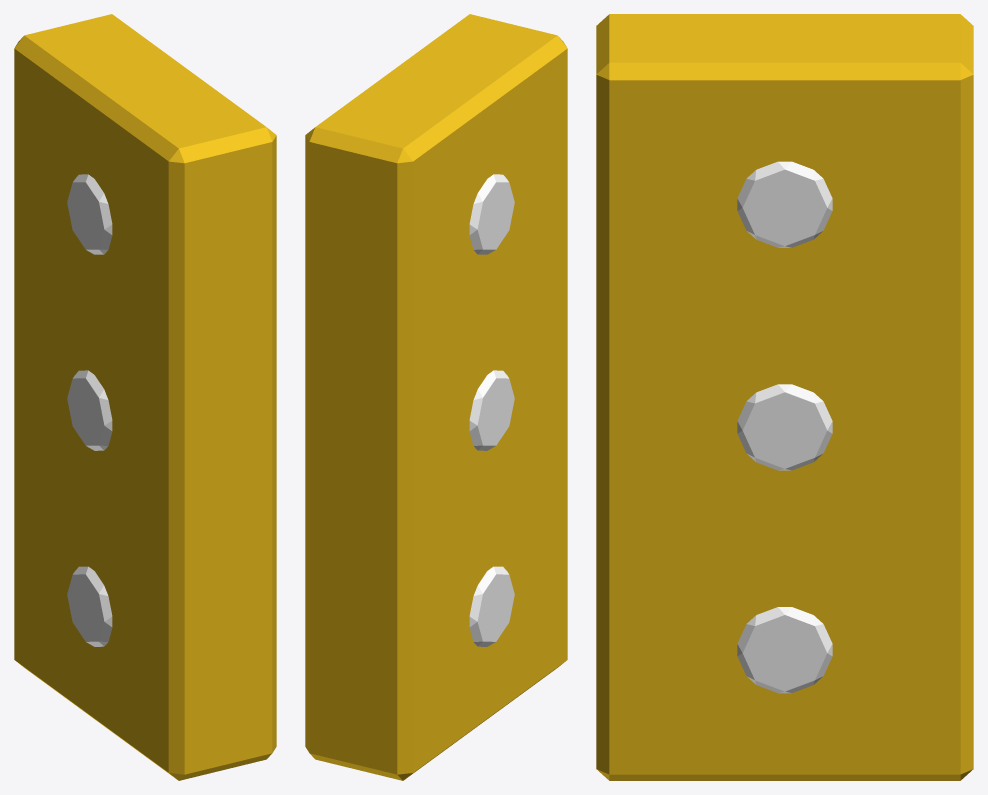
Rendered from domino_yellow.glb.
3 views of the same model, side by side, from view 1: azimuth 30°, elevation 25°; view 2: azimuth 150°, elevation 25°; view 3: azimuth 270°, elevation 25° (orthographic). The views are drawn at different scales.
Visible parts, largest first — view 1: domino_yellow; view 2: domino_yellow; view 3: domino_yellow.
Boxes of the visible parts, box(x1,y1,x2,y2) form: domino_yellow: box(14, 14, 276, 780); domino_yellow: box(305, 14, 567, 780); domino_yellow: box(596, 14, 973, 780).
Size of the model in its own units: 0.083 by 0.42 by 0.2.
